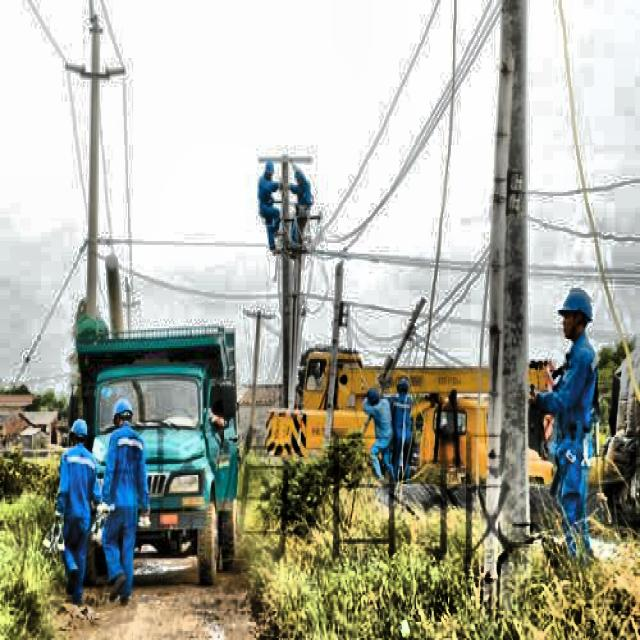helmet: (556, 282, 595, 342), (67, 414, 92, 454), (110, 395, 133, 432), (260, 154, 278, 180), (394, 373, 411, 399)
